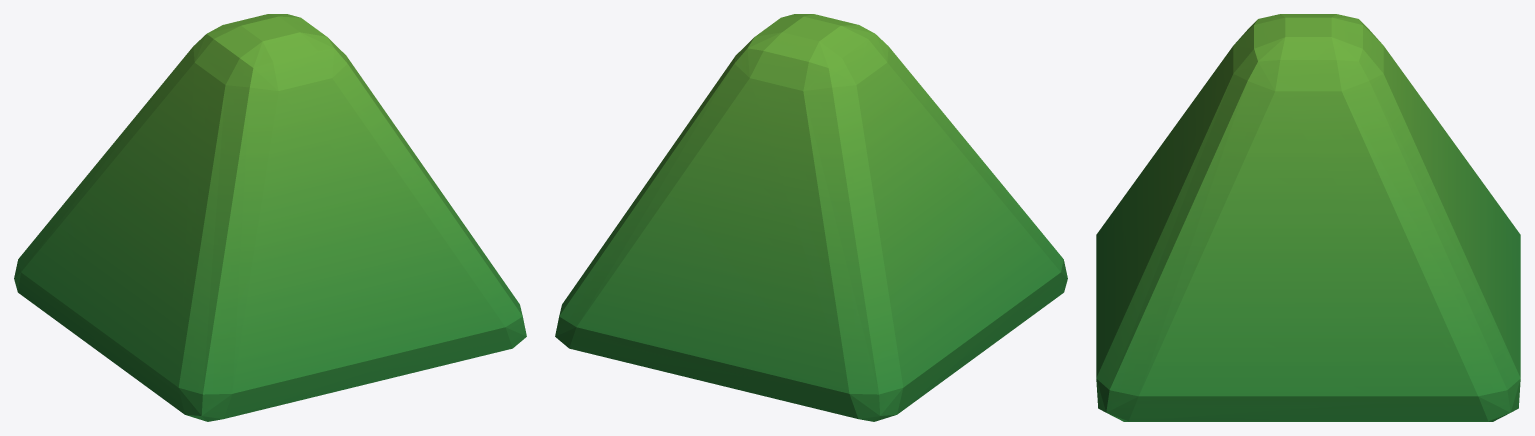
The model's file is kf_bush_4_c.fbx.
3 views of the same model, side by side, from view 1: azimuth 30°, elevation 25°; view 2: azimuth 150°, elevation 25°; view 3: azimuth 270°, elevation 25° (orthographic). The views are drawn at different scales.
Visible parts, largest first — view 1: kf_bush_4_c; view 2: kf_bush_4_c; view 3: kf_bush_4_c.
Boxes of the visible parts, x1=… form: kf_bush_4_c: x1=14, y1=14, x2=526, y2=421; kf_bush_4_c: x1=555, y1=14, x2=1067, y2=421; kf_bush_4_c: x1=1096, y1=14, x2=1520, y2=421.
Bounding box in the file's own units: 2.53 × 2.08 × 2.53.
